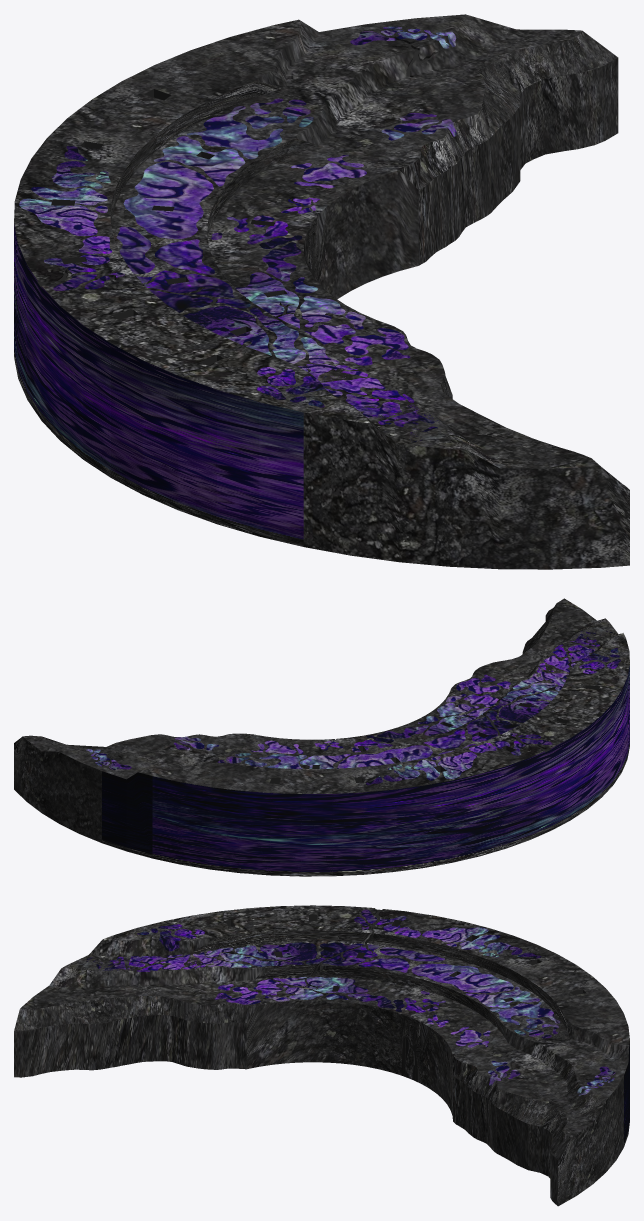
The model's file is SeaOrgan02.fbx.
3 renders of one model, top to bottom at view 1: azimuth 30°, elevation 25°; view 2: azimuth 150°, elevation 25°; view 3: azimuth 270°, elevation 25°, orthographic. The views are drawn at different scales.
Parts seen in each view (by area): view 1: Cylinder.001; view 2: Cylinder.001; view 3: Cylinder.001.
Boxes of the visible parts, x1=… form: Cylinder.001: x1=14, y1=14, x2=629, y2=569; Cylinder.001: x1=14, y1=598, x2=629, y2=876; Cylinder.001: x1=14, y1=905, x2=629, y2=1206.
Size of the model in its own units: 13.73 by 2.4 by 16.32.
